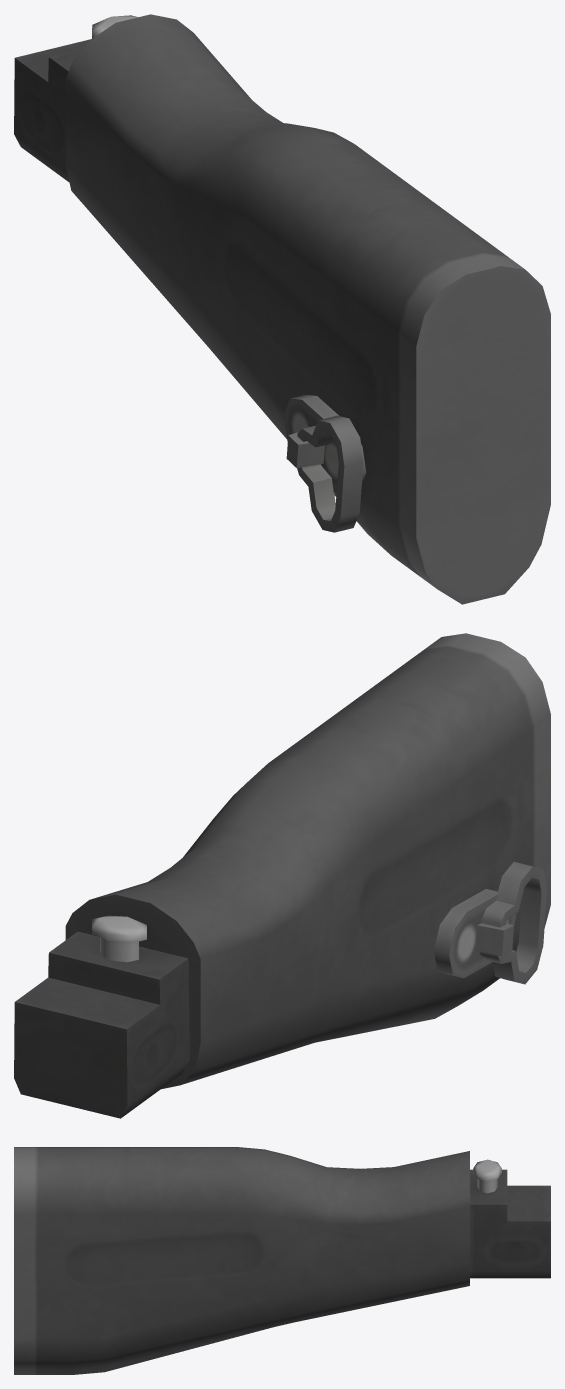
Rendered from IG_Acc_Stock_ALL_REC_1.fbx.
The picture shows the model from 3 angles, top to bottom: view 1: azimuth 30°, elevation 25°; view 2: azimuth 150°, elevation 25°; view 3: azimuth 270°, elevation 25°; orthographic projection. The views are drawn at different scales.
Parts seen in each view (by area): view 1: Stock_ALL_REC_1; view 2: Stock_ALL_REC_1; view 3: Stock_ALL_REC_1.
Part boxes in pixels (box(x1,y1,x2,y2)): Stock_ALL_REC_1: box(14, 14, 550, 604); Stock_ALL_REC_1: box(14, 633, 550, 1118); Stock_ALL_REC_1: box(14, 1147, 550, 1374).
Bounding box in the file's own units: 0.0899 × 0.1614 × 0.367.
Materials: 1 (1 with a texture image).
